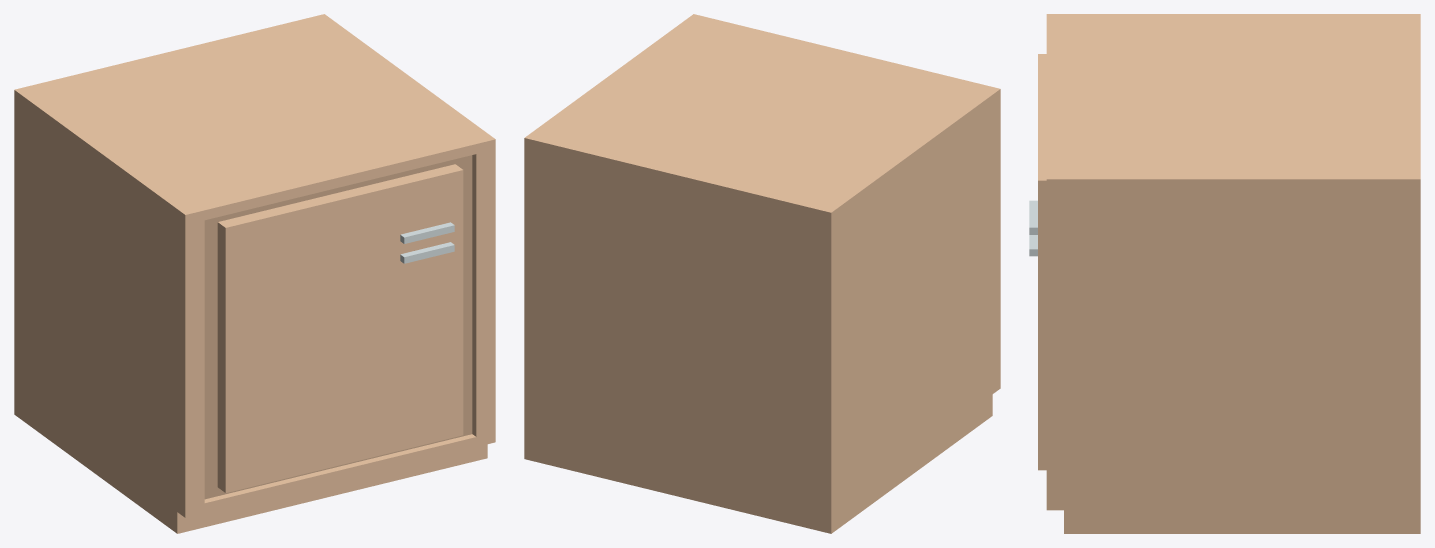
The model's file is kn-kitchen-fridge-built-in.glb.
3 views of the same model, side by side, from view 1: azimuth 30°, elevation 25°; view 2: azimuth 150°, elevation 25°; view 3: azimuth 270°, elevation 25° (orthographic). The views are drawn at different scales.
Parts seen in each view (by area): view 1: kitchenFridgeBuiltIn(Clone), doorFreezer; view 2: kitchenFridgeBuiltIn(Clone); view 3: kitchenFridgeBuiltIn(Clone), doorFreezer.
Part boxes in pixels (bbox=[...]): kitchenFridgeBuiltIn(Clone): bbox=[14, 14, 495, 533]; doorFreezer: bbox=[400, 222, 454, 263]; kitchenFridgeBuiltIn(Clone): bbox=[524, 14, 1000, 533]; kitchenFridgeBuiltIn(Clone): bbox=[1038, 14, 1420, 533]; doorFreezer: bbox=[1029, 200, 1037, 256].
Size of the model in its own units: 1 by 1 by 1.
